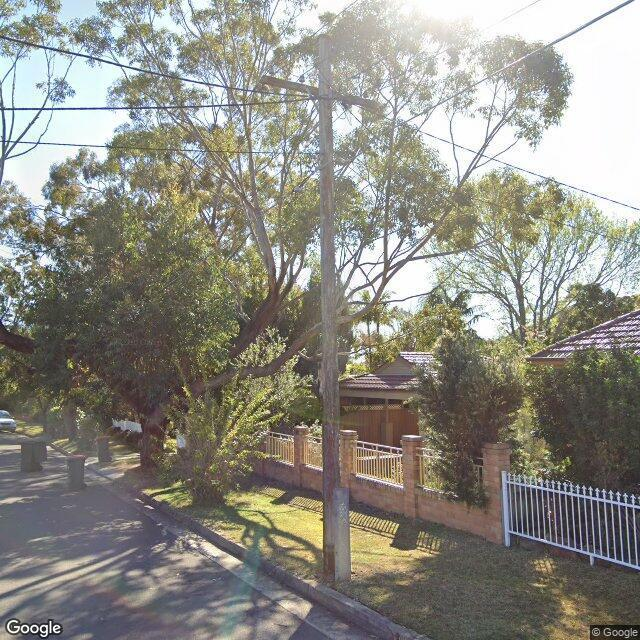crossarm: (262, 72, 380, 113)
timber-pole: (316, 34, 354, 590)
